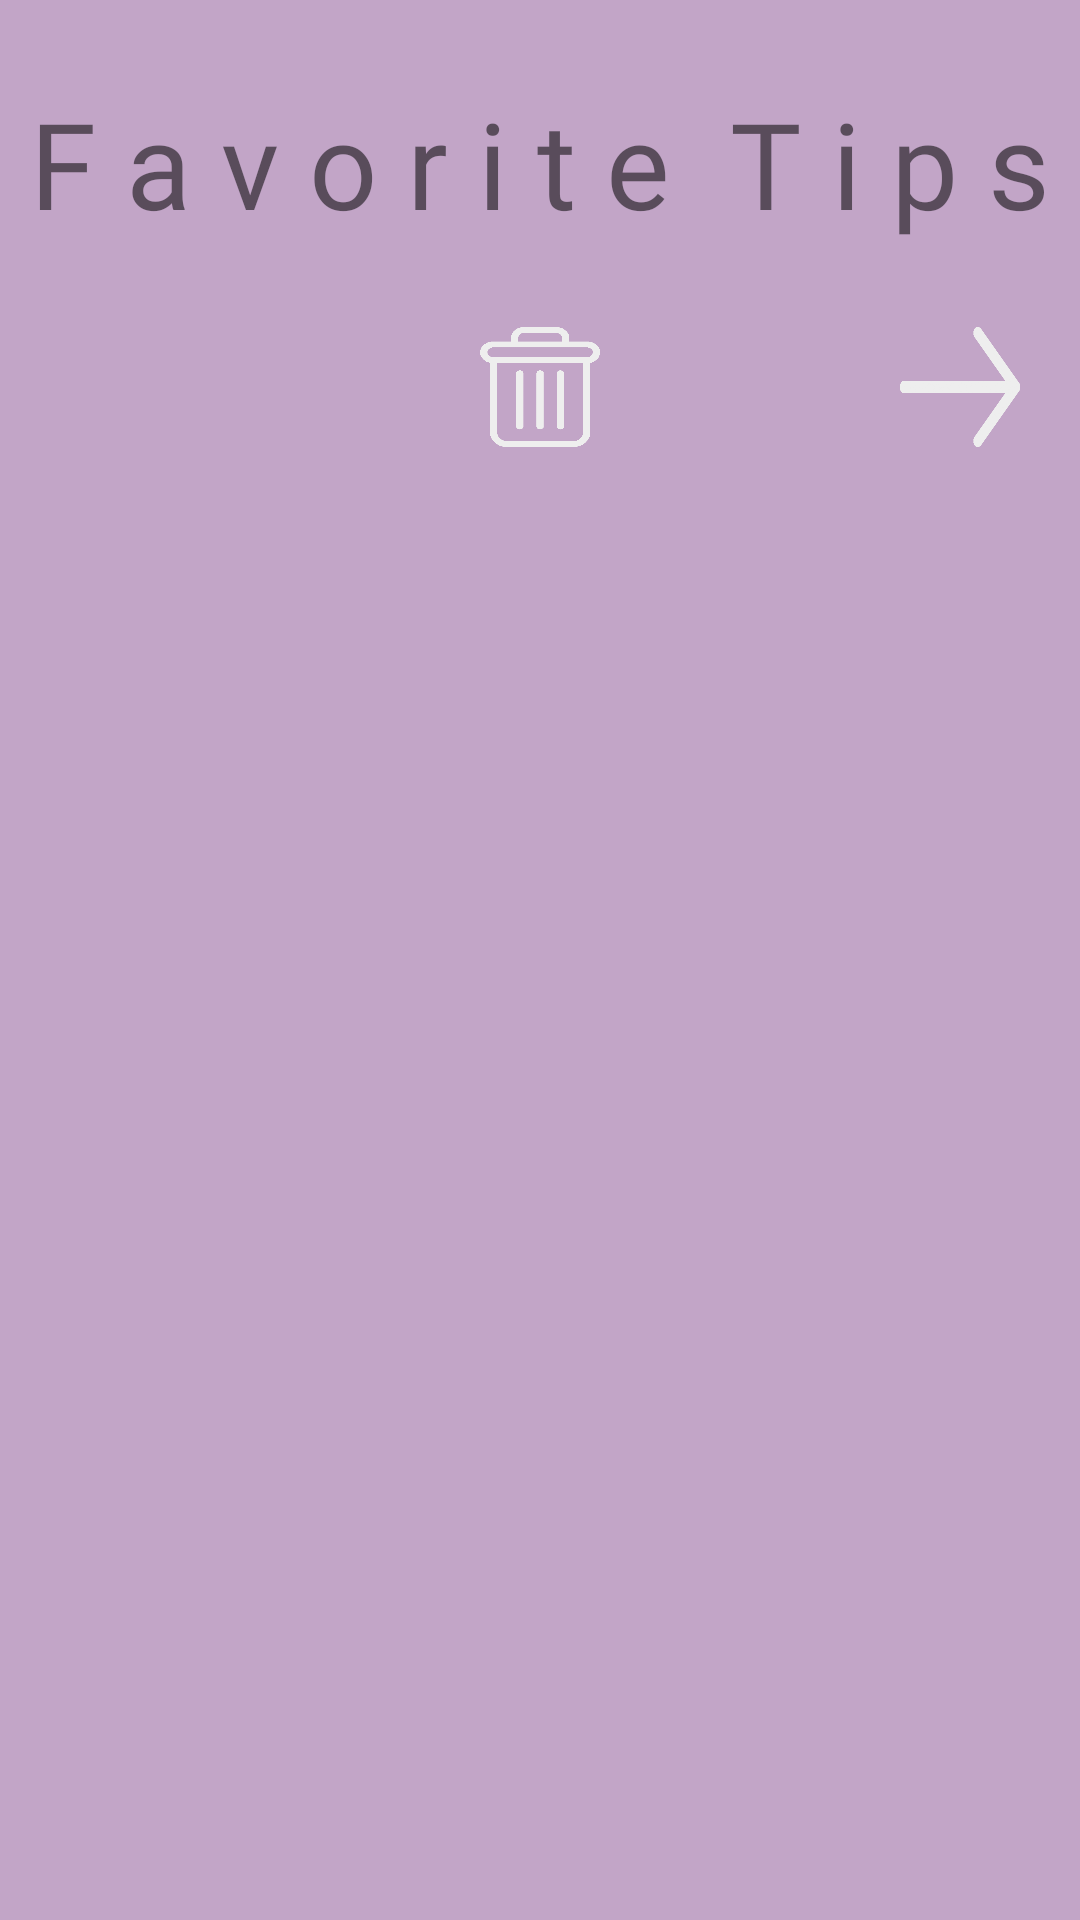

Icon bounding boxes for this 1080w x 1920h phone screenshot, format (x1, y1, x2, y2):
deletewhite: (480, 327, 600, 447)
nextwhite: (900, 327, 1020, 447)
